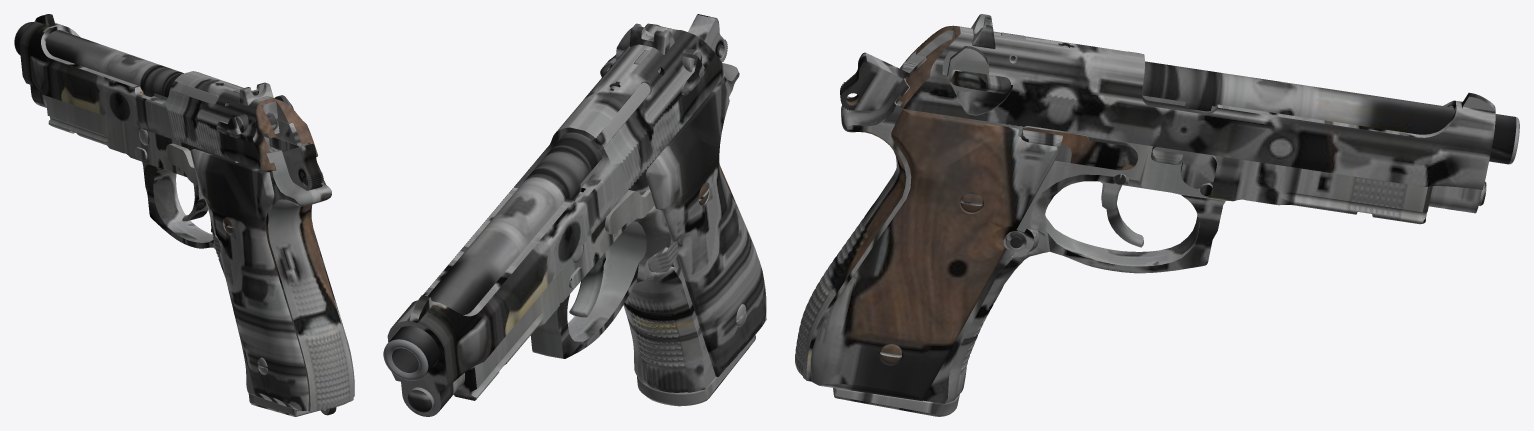
Rendered from p_elite.glb.
The picture shows the model from 3 angles, left to right: view 1: azimuth 30°, elevation 25°; view 2: azimuth 150°, elevation 25°; view 3: azimuth 270°, elevation 25°; orthographic projection. The views are drawn at different scales.
Visible parts, largest first — view 1: p_elite; view 2: p_elite; view 3: p_elite.
Part boxes in pixels (x1,y1,x2,y2): p_elite: (14,14,354,416); p_elite: (383,14,766,416); p_elite: (795,14,1519,416).
Size of the model in its own units: 0.0572 by 0.2035 by 0.3488.
1 material, 1 textured.
